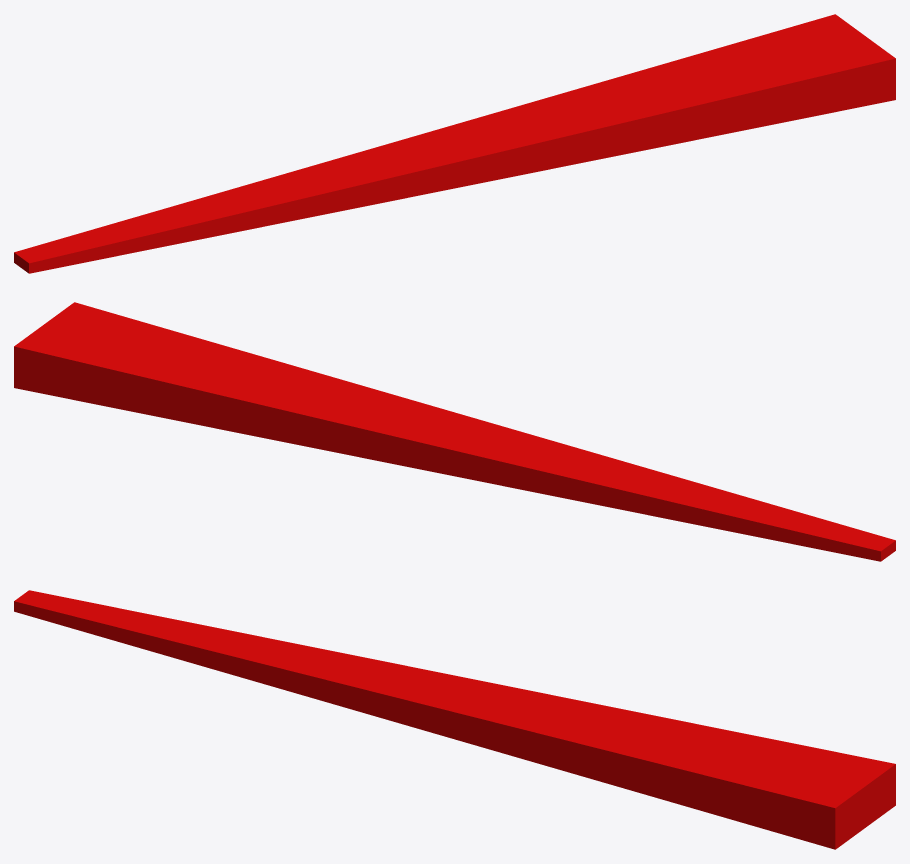
Rendered from Enemy_Updated_01_Thrusters.fbx.
The picture shows the model from 3 angles, top to bottom: view 1: azimuth 30°, elevation 25°; view 2: azimuth 150°, elevation 25°; view 3: azimuth 330°, elevation 25°; orthographic projection.
Parts seen in each view (by area): view 1: pCube71; view 2: pCube71; view 3: pCube71.
Part boxes in pixels (box(x1,y1,x2,y2)): pCube71: box(14, 14, 895, 273); pCube71: box(14, 302, 895, 561); pCube71: box(14, 590, 895, 849).
Bounding box in the file's own units: 11.23 × 0.5283 × 1.39.
